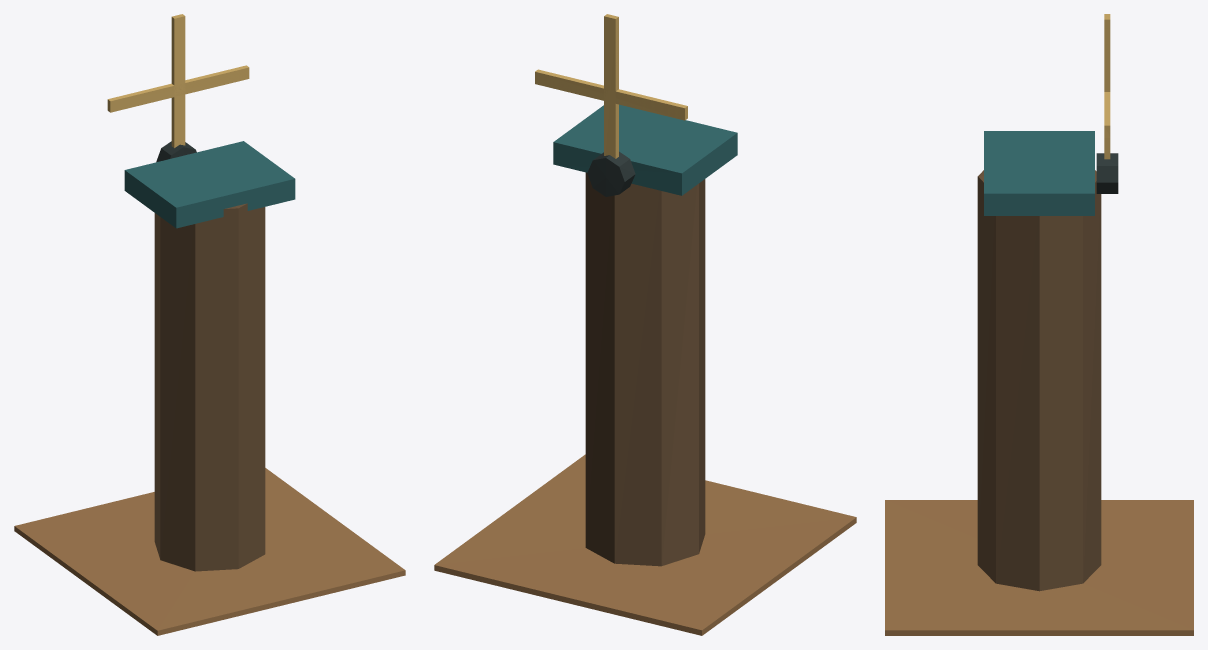
The model's file is giant-windmill.source.glb.
3 renders of one model, left to right at view 1: azimuth 30°, elevation 25°; view 2: azimuth 150°, elevation 25°; view 3: azimuth 270°, elevation 25°, orthographic. The views are drawn at different scales.
Visible parts, largest first — view 1: giant-windmill-tower-mesh, giant-windmill-pad-mesh, giant-windmill-cap-mesh, giant-windmill-sail-1-mesh, giant-windmill-sail-0-mesh, giant-windmill-sail-3-mesh; view 2: giant-windmill-tower-mesh, giant-windmill-pad-mesh, giant-windmill-cap-mesh, giant-windmill-sail-1-mesh, giant-windmill-sail-0-mesh, giant-windmill-hub-mesh, giant-windmill-sail-2-mesh, giant-windmill-sail-3-mesh; view 3: giant-windmill-tower-mesh, giant-windmill-pad-mesh, giant-windmill-cap-mesh, giant-windmill-hub-mesh, giant-windmill-sail-0-mesh.
Part boxes in pixels (x1=…): giant-windmill-tower-mesh: x1=154, y1=203, x2=265, y2=571; giant-windmill-pad-mesh: x1=14, y1=468, x2=405, y2=635; giant-windmill-cap-mesh: x1=124, y1=141, x2=295, y2=228; giant-windmill-sail-1-mesh: x1=107, y1=65, x2=249, y2=112; giant-windmill-sail-0-mesh: x1=171, y1=14, x2=185, y2=147; giant-windmill-sail-3-mesh: x1=108, y1=66, x2=248, y2=111; giant-windmill-tower-mesh: x1=585, y1=172, x2=705, y2=566; giant-windmill-pad-mesh: x1=434, y1=454, x2=856, y2=635; giant-windmill-cap-mesh: x1=553, y1=104, x2=737, y2=195; giant-windmill-sail-1-mesh: x1=535, y1=69, x2=687, y2=120; giant-windmill-sail-0-mesh: x1=604, y1=14, x2=618, y2=158; giant-windmill-hub-mesh: x1=587, y1=151, x2=635, y2=196; giant-windmill-sail-2-mesh: x1=604, y1=14, x2=618, y2=158; giant-windmill-sail-3-mesh: x1=535, y1=70, x2=687, y2=120; giant-windmill-tower-mesh: x1=977, y1=170, x2=1101, y2=591; giant-windmill-pad-mesh: x1=885, y1=500, x2=1193, y2=635; giant-windmill-cap-mesh: x1=984, y1=131, x2=1094, y2=215; giant-windmill-hub-mesh: x1=1096, y1=153, x2=1118, y2=193; giant-windmill-sail-0-mesh: x1=1104, y1=14, x2=1110, y2=159.
Size of the model in its own units: 5 by 9.9 by 5.
